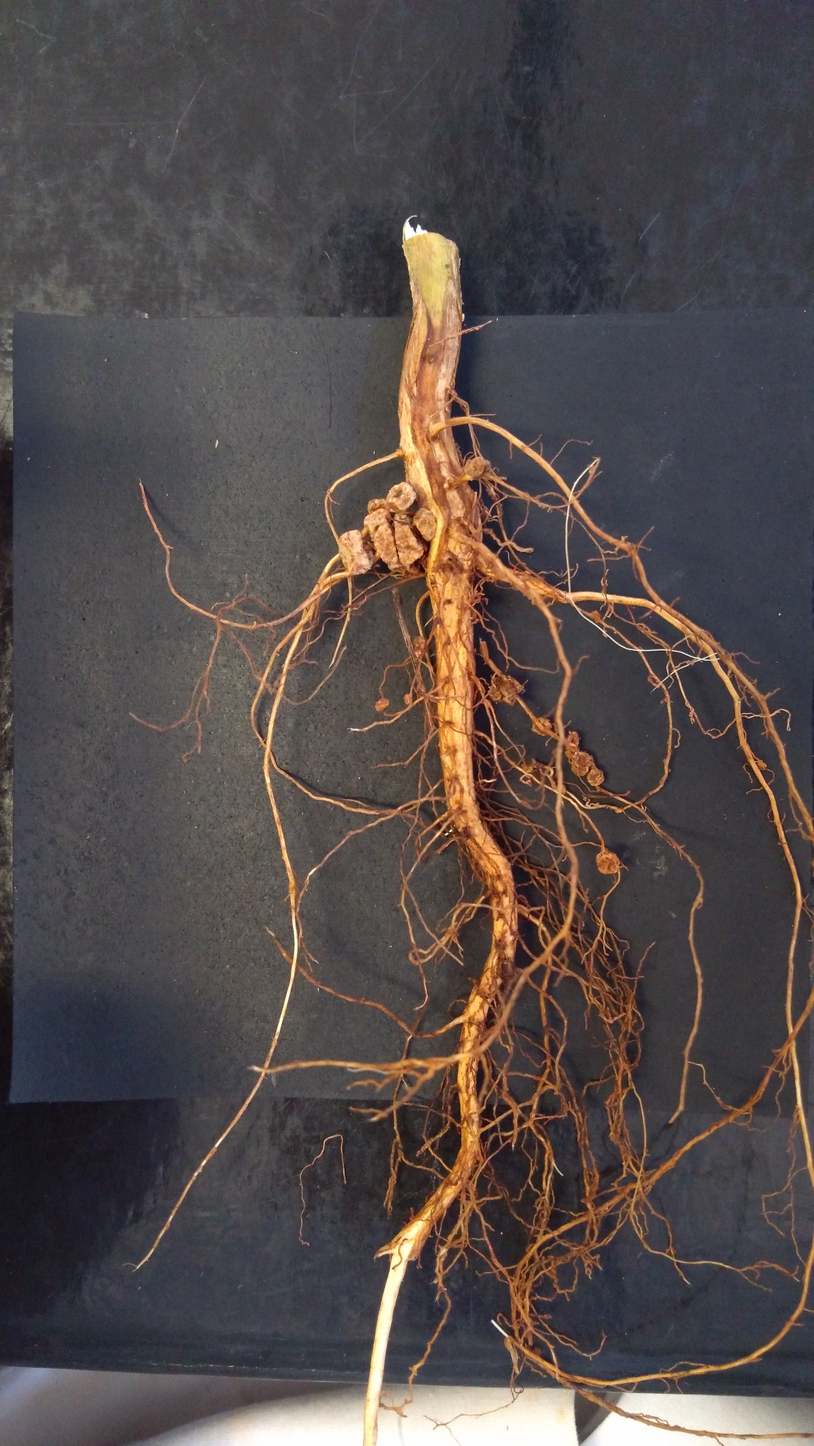nodule: (391, 512, 429, 569), (372, 523, 411, 573), (337, 529, 375, 575), (487, 674, 526, 706), (385, 481, 416, 513), (362, 509, 393, 540), (412, 506, 437, 542), (463, 455, 493, 479), (595, 850, 620, 875), (570, 750, 592, 778), (495, 956, 515, 982), (565, 730, 580, 762), (366, 498, 392, 516), (530, 716, 552, 737), (412, 634, 429, 658), (586, 768, 606, 786), (374, 697, 390, 713), (478, 504, 491, 523), (553, 783, 567, 796), (521, 764, 532, 780), (591, 610, 602, 625), (756, 759, 767, 771), (403, 693, 412, 705), (534, 1346, 543, 1357), (454, 442, 460, 451), (487, 573, 495, 578), (461, 313, 465, 322), (525, 571, 532, 576), (475, 327, 479, 330)
